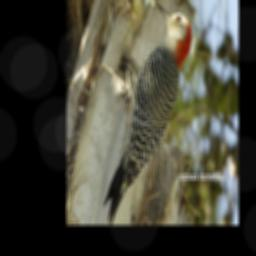Woodpecker: (102, 3, 195, 225)
